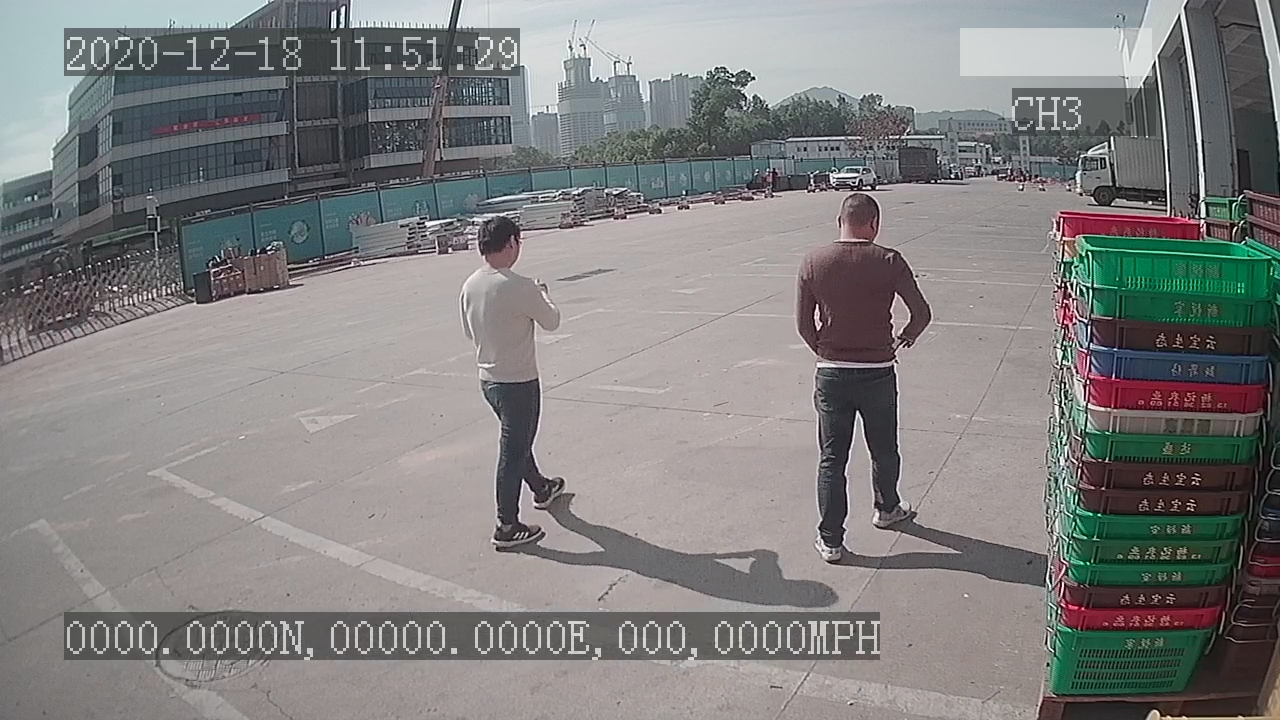person: (793, 186, 934, 567), (452, 213, 572, 558)
